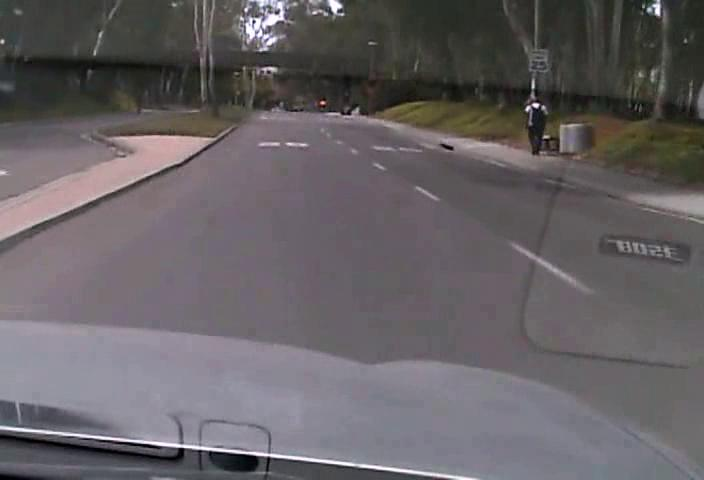speedLimit25: (527, 46, 549, 74)
